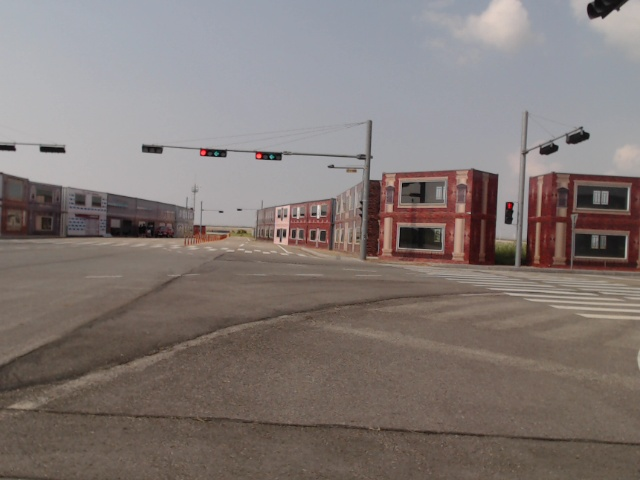left_green_4: (200, 149, 227, 157), (256, 153, 282, 160)
